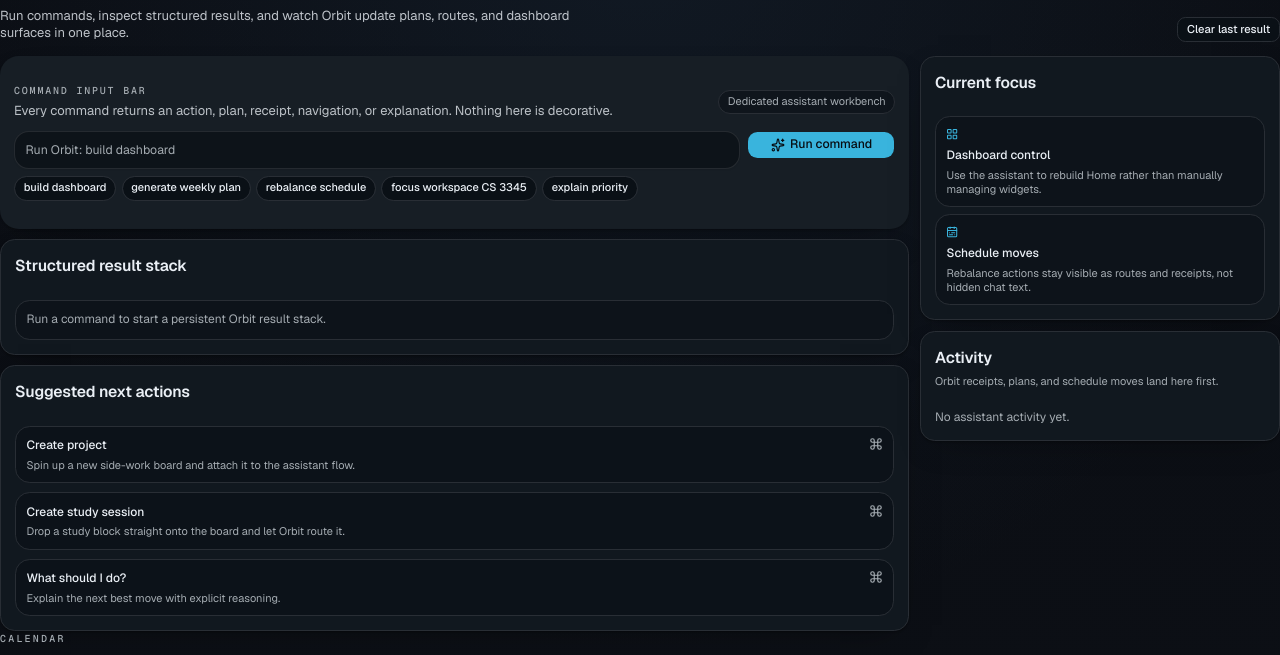
it: CalendarView › renders plan markers on day buttons after generate weekly plan
This screenshot has width=1280, height=655.
Step 1. Click the button "generate weekly plan" → (186, 188), box [122, 176, 251, 201]
(page scrolled)
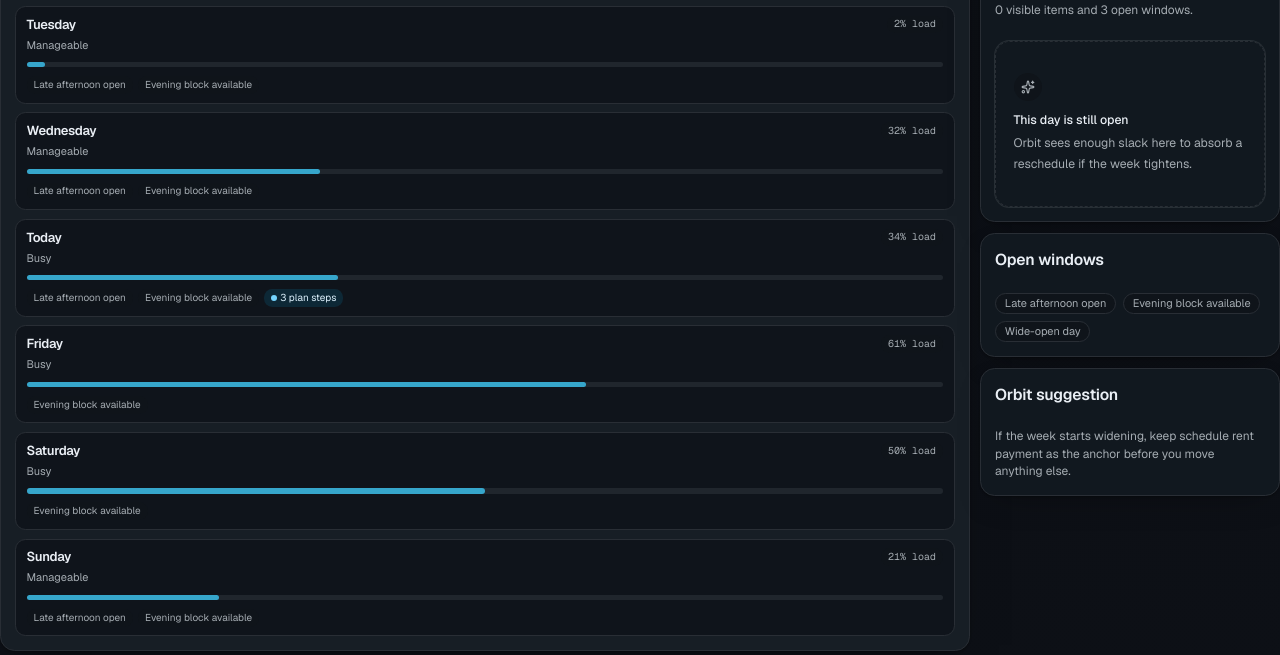
Check: the text "3 plan steps" is shown, box [264, 289, 344, 307]
